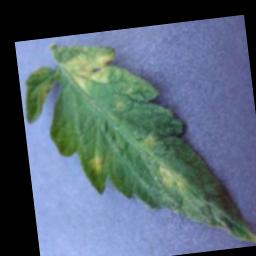Leaf_Mold: (59, 46, 120, 96), (158, 161, 188, 197), (84, 152, 105, 176)
